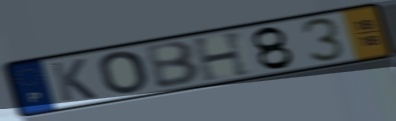3: (300, 16, 347, 64)
8: (251, 25, 296, 71)
B: (142, 39, 204, 91)
H: (189, 29, 254, 83)
K: (49, 57, 100, 104)
O: (96, 49, 150, 95)
